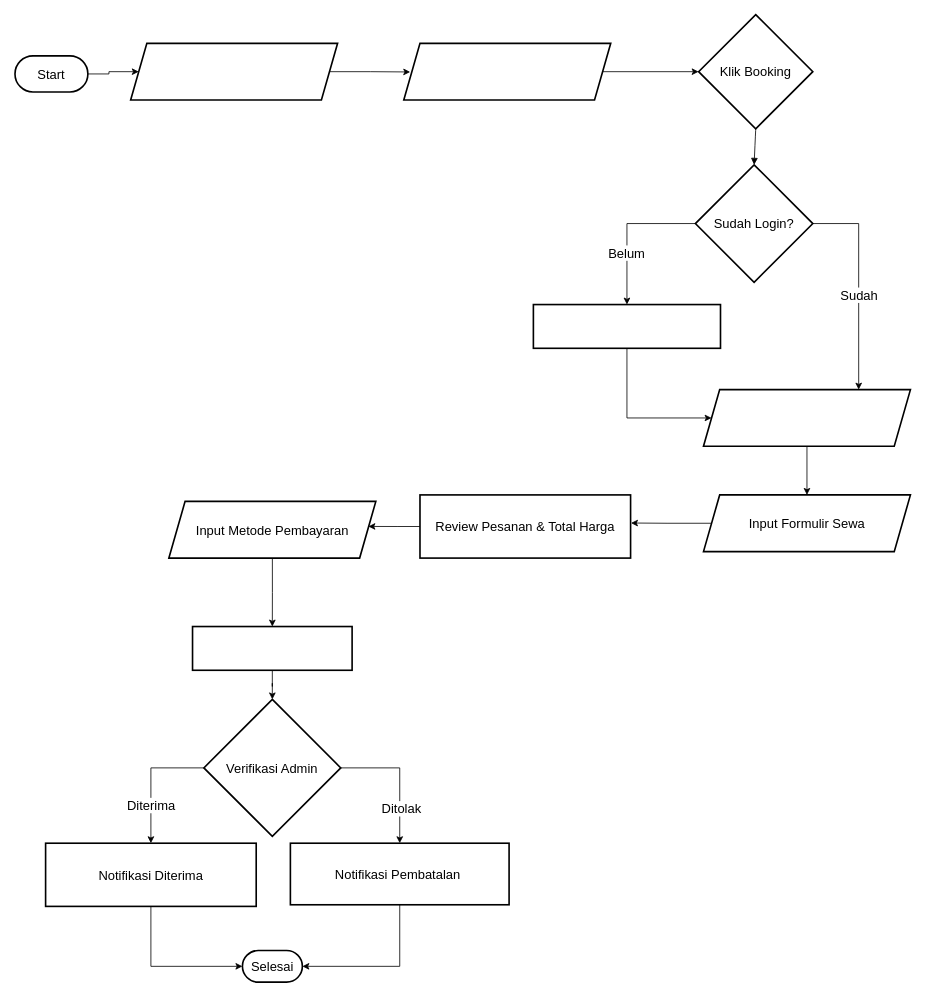
The diagram is 925 pixels wide and 997 high, and some of its shapes have lost their labels. The centre of each missing label's shape, as x and y in pixels:
"Halaman Detail Mobil" goes at point 507,71.
"Halaman Login/Register" goes at point 626,326.
"Halaman Utama" goes at point 233,71.
"Input Data Diri" goes at point 806,417.
"Proses Pembayaran" goes at point 272,648.
